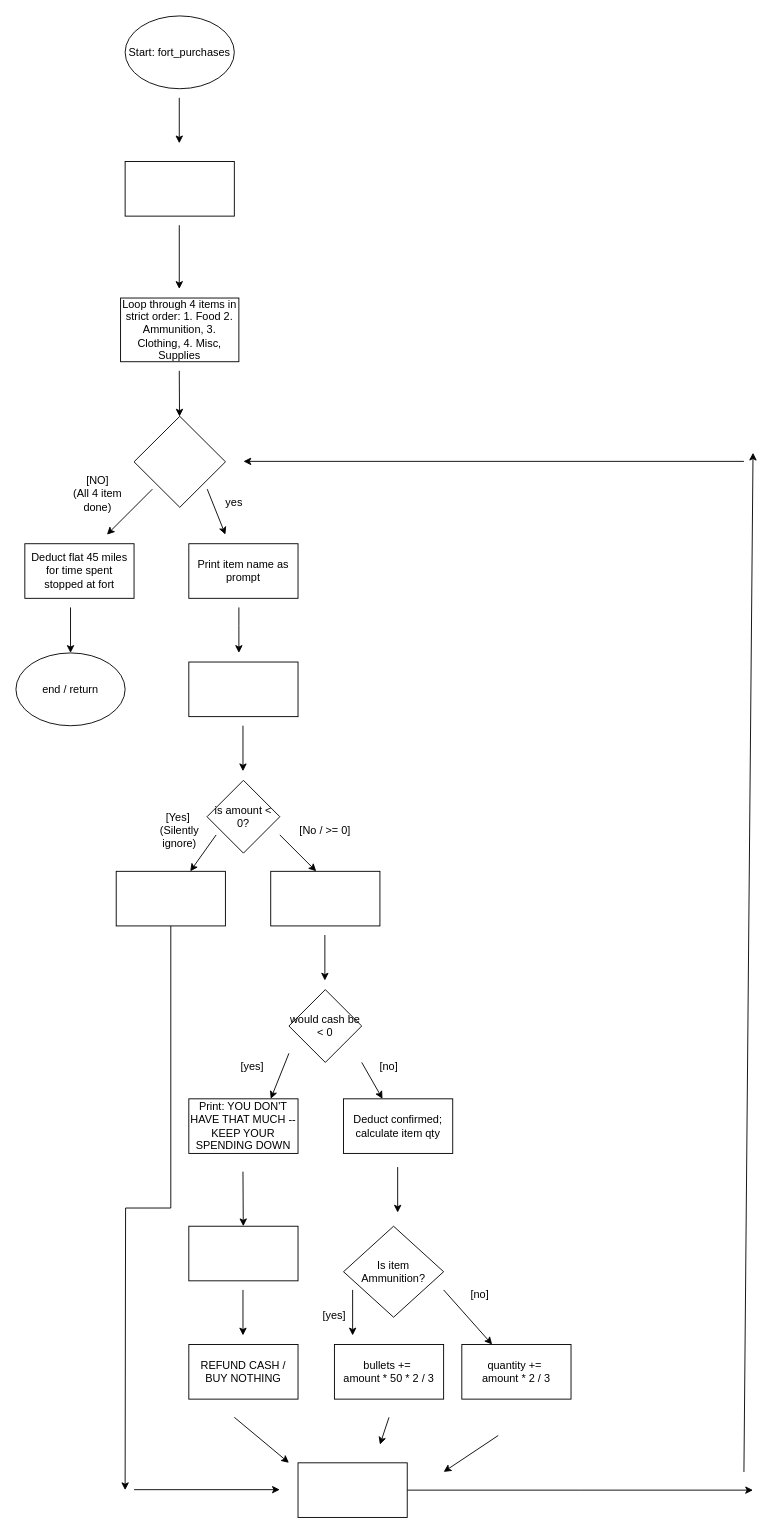
Image size: 776x1533. Some labels were removed from this diagram. Here are the shapes that lost their labels. From the top down, the box of each, then its label:
(124, 161, 234, 216): Print: ENTER WHAT YOU WISH TO SPEND ON THE FOLLOWING
(133, 415, 225, 507): Are there items left to process?
(188, 661, 298, 717): amount = io::ask_number()
(115, 870, 225, 926): Do nothing / Skip item
(270, 870, 380, 926): Tentatively deduct: cash = cash -amount
(188, 1225, 298, 1281): Print: YOU MISS YOUR CHANCE TO SPEND ON THAT ITEM
(297, 1462, 407, 1517): all paths point back to the loop check at the very top!
